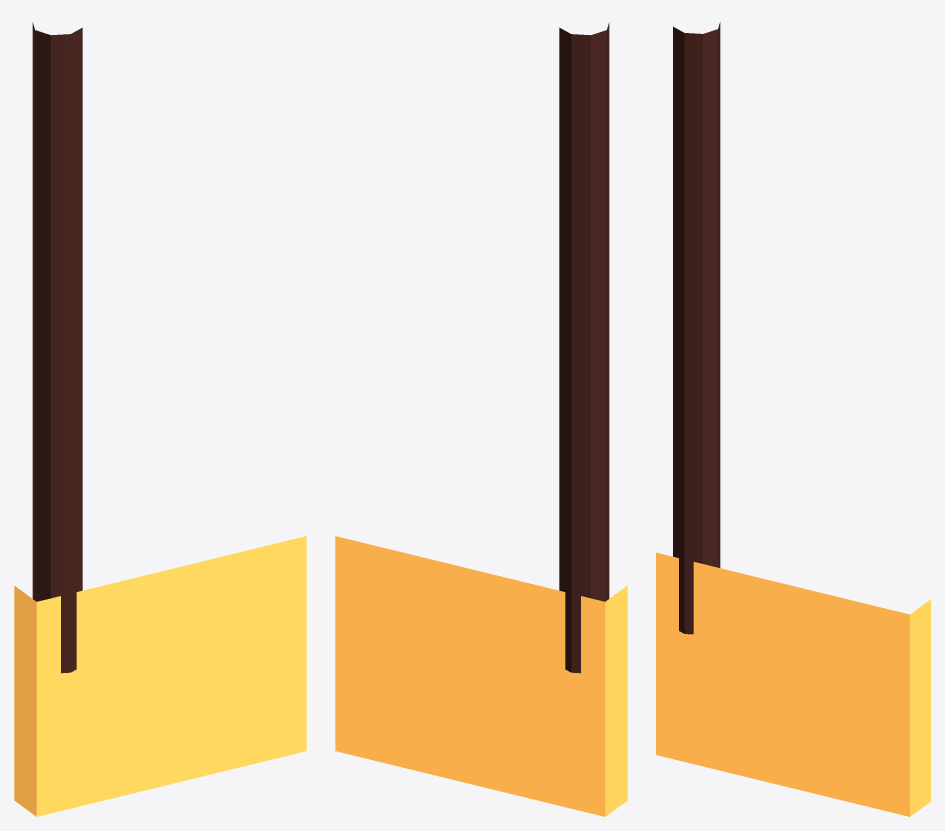
The model's file is axe.glb.
The picture shows the model from 3 angles, left to right: view 1: azimuth 30°, elevation 25°; view 2: azimuth 150°, elevation 25°; view 3: azimuth 330°, elevation 25°; orthographic projection. The views are drawn at different scales.
Parts seen in each view (by area): view 1: axe-blade, axe-haft; view 2: axe-blade, axe-haft; view 3: axe-blade, axe-haft.
Part boxes in pixels (x1,y1,x2,y2): axe-blade: [14, 536, 306, 816]; axe-haft: [32, 22, 82, 673]; axe-blade: [335, 536, 627, 816]; axe-haft: [559, 22, 609, 673]; axe-blade: [656, 552, 930, 816]; axe-haft: [673, 22, 720, 634].
Size of the model in its own units: 0.42 by 1.16 by 0.07.
